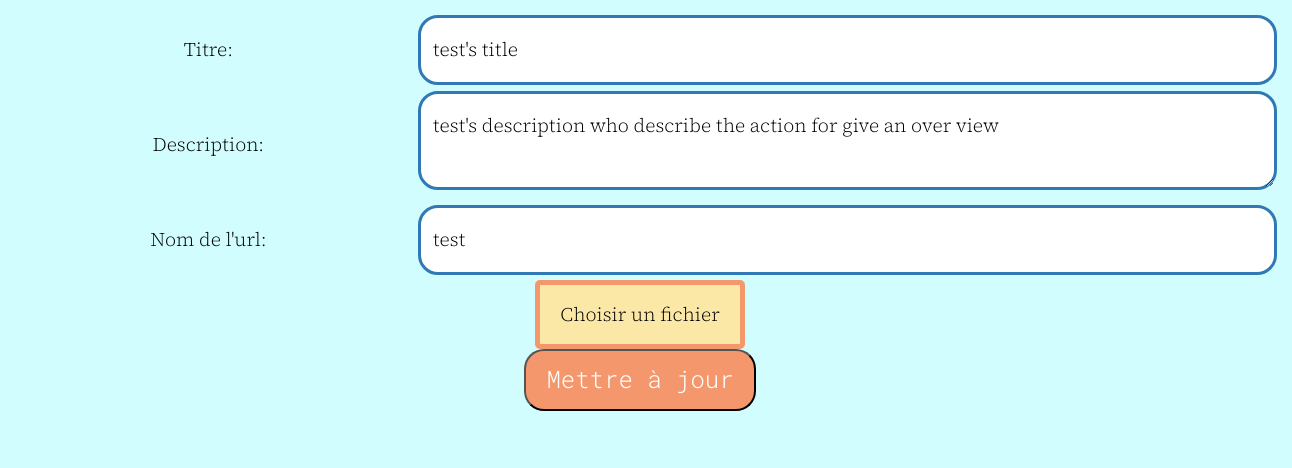
Test case: EditActionForm › should fail when error validation
Clear the field with placeholder "titre" in the row of "Titre:" at (847,50), box [418,15,1277,85]
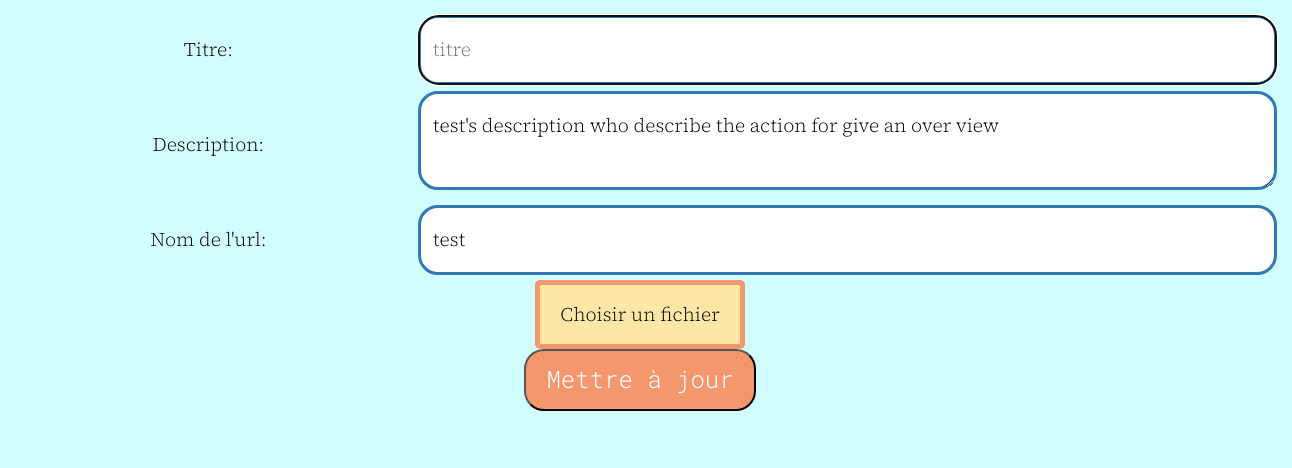
Click the button "Mettre à jour" at (640,380), box [524,349,756,411]
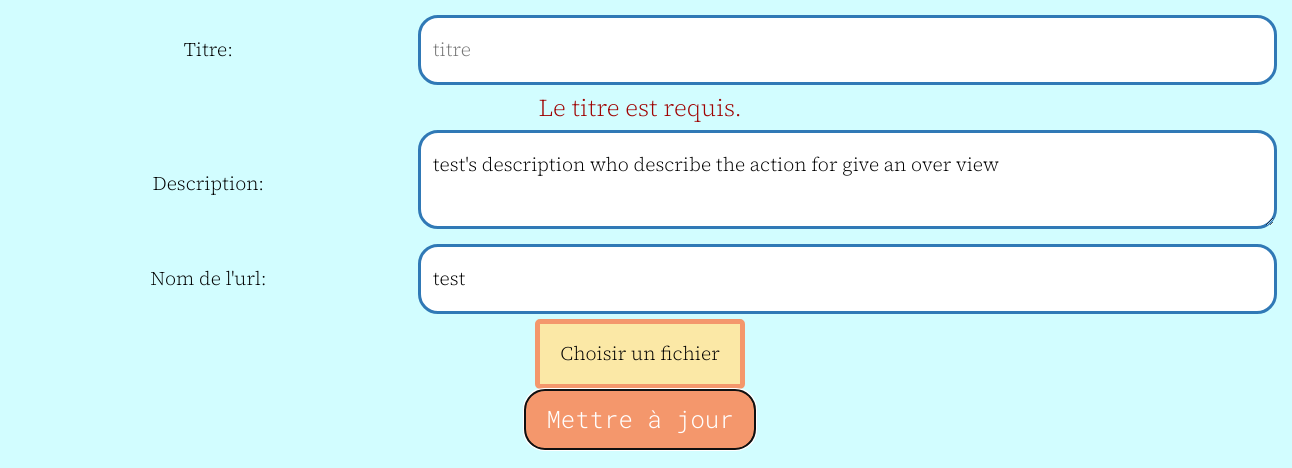
Expected: the text "Le titre est requis." is shown, [2,88,1278,127]
